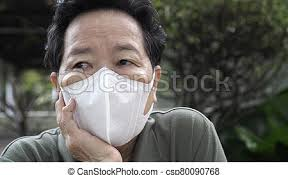mask: (36, 70, 189, 150)
social distancing: (37, 4, 210, 156)
